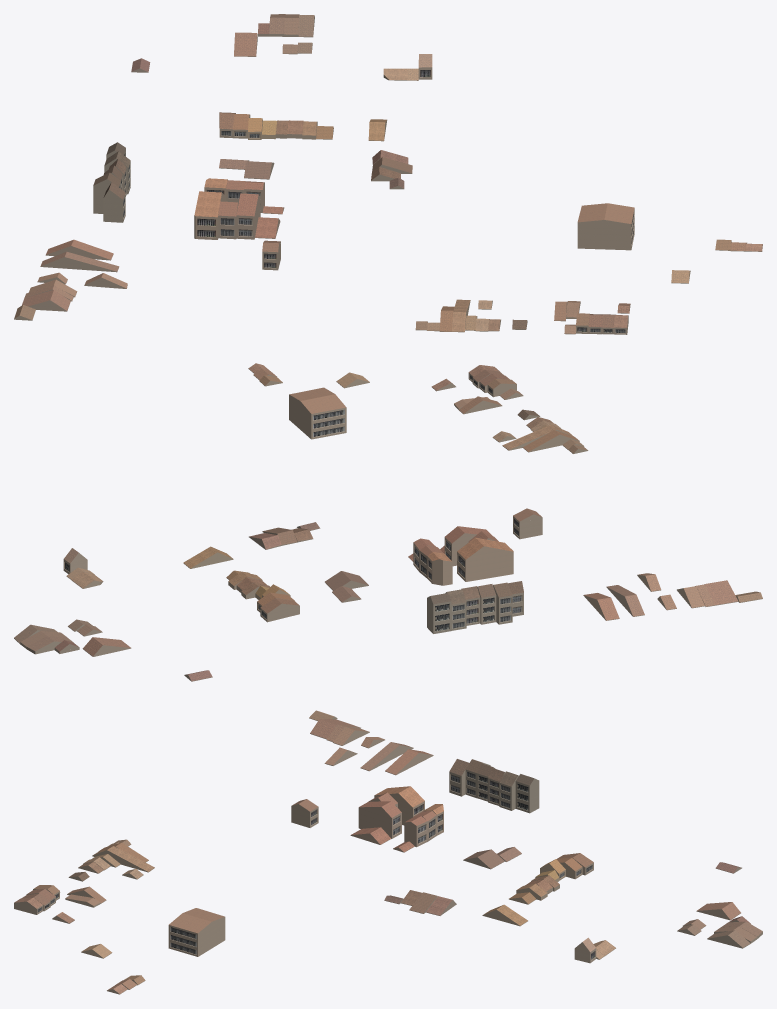
3 renders of one model, top to bottom at view 1: azimuth 30°, elevation 25°; view 2: azimuth 150°, elevation 25°; view 3: azimuth 270°, elevation 25°, orthographic. The views are drawn at different scales.
Parts seen in each view (by area): view 1: render, interlock, flat-clay, barrel, windows; view 2: render, interlock, flat-clay, barrel, windows; view 3: render, interlock, flat-clay, barrel, windows.
Part boxes in pixels (box(x1,y1,x2,y2)): render: box(14, 15, 762, 334); interlock: box(14, 14, 746, 331); flat-clay: box(29, 14, 731, 333); barrel: box(104, 68, 762, 331); windows: box(119, 70, 633, 332); render: box(14, 368, 762, 681); interlock: box(14, 369, 762, 680); flat-clay: box(21, 375, 704, 646); barrel: box(72, 363, 573, 604); windows: box(65, 375, 521, 631); render: box(14, 716, 762, 994); interlock: box(22, 710, 762, 989); flat-clay: box(34, 727, 756, 984); barrel: box(14, 768, 615, 993); windows: box(37, 772, 595, 959).
Bounding box in the file's own units: 228 × 12.34 × 257.
5 materials, 5 textured.
